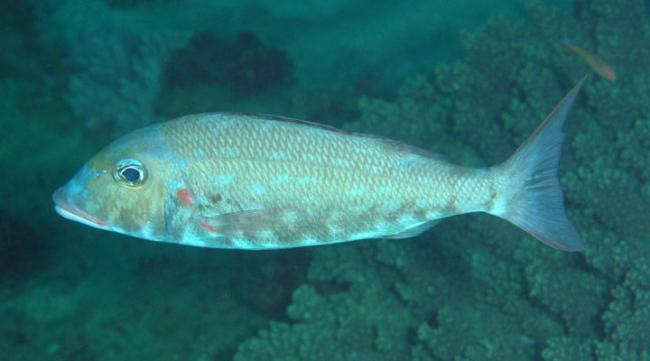fish: (51, 73, 586, 253)
